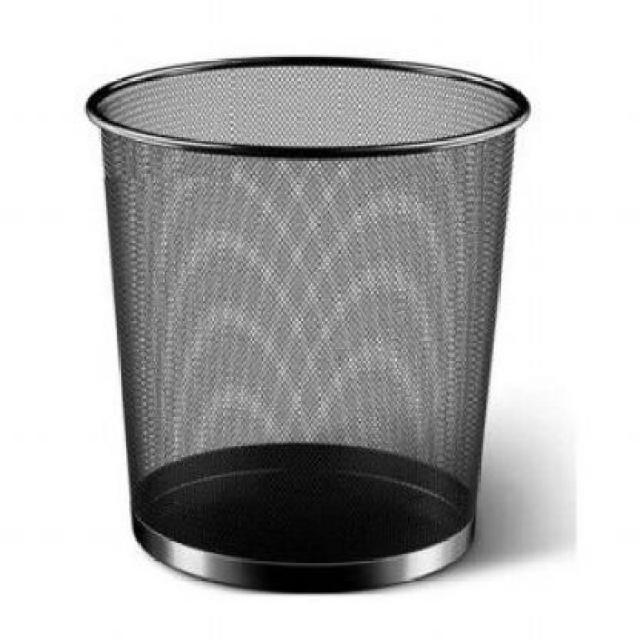dustbin: (82, 52, 534, 603)
